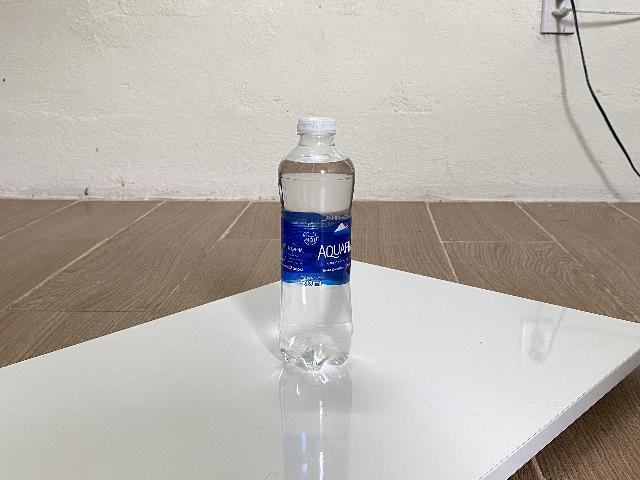aquafina: (278, 116, 356, 373)
